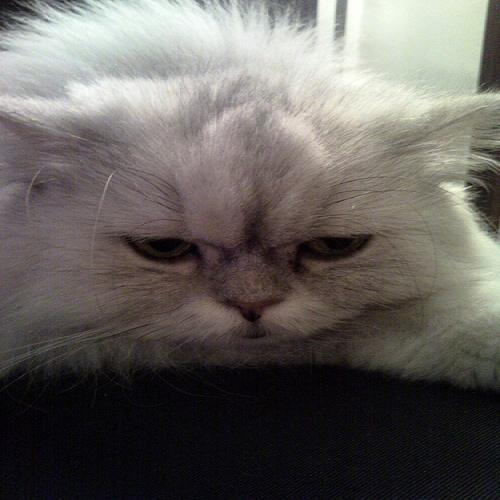persian: (15, 76, 500, 364)
